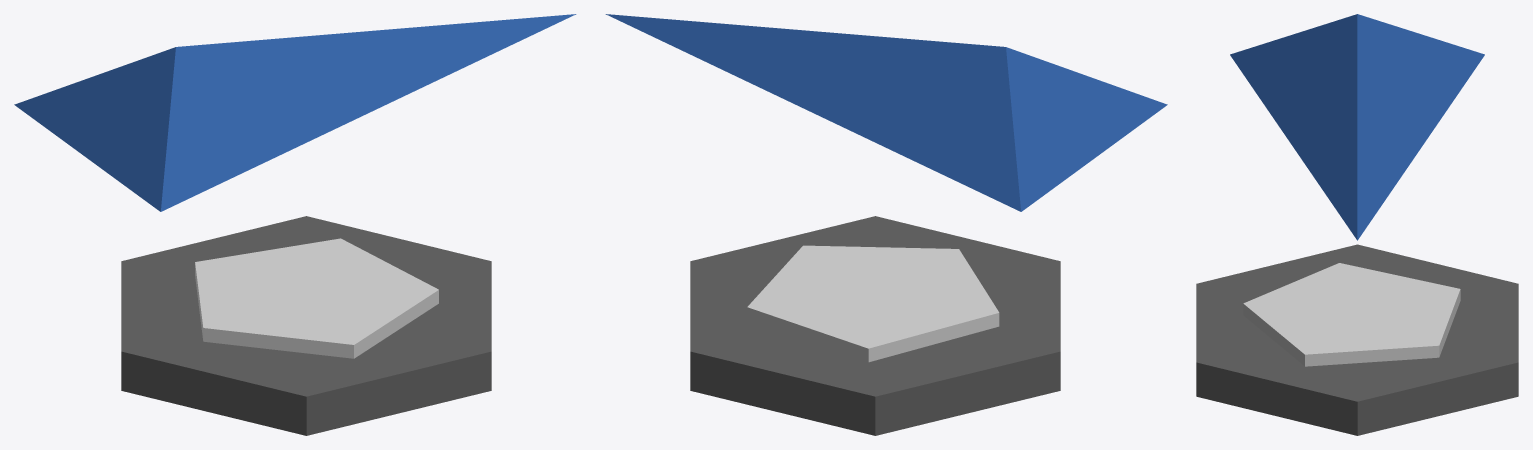
The model's file is gun_turret.fbx.
The picture shows the model from 3 angles, left to right: view 1: azimuth 30°, elevation 25°; view 2: azimuth 150°, elevation 25°; view 3: azimuth 270°, elevation 25°; orthographic projection. The views are drawn at different scales.
Visible parts, largest first — view 1: Head; view 2: Head; view 3: Head.
Part boxes in pixels (x1,y1,x2,y2): Head: [14, 14, 576, 435]; Head: [605, 14, 1167, 435]; Head: [1196, 14, 1518, 435].
Size of the model in its own units: 10 by 6.45 by 6.55.
